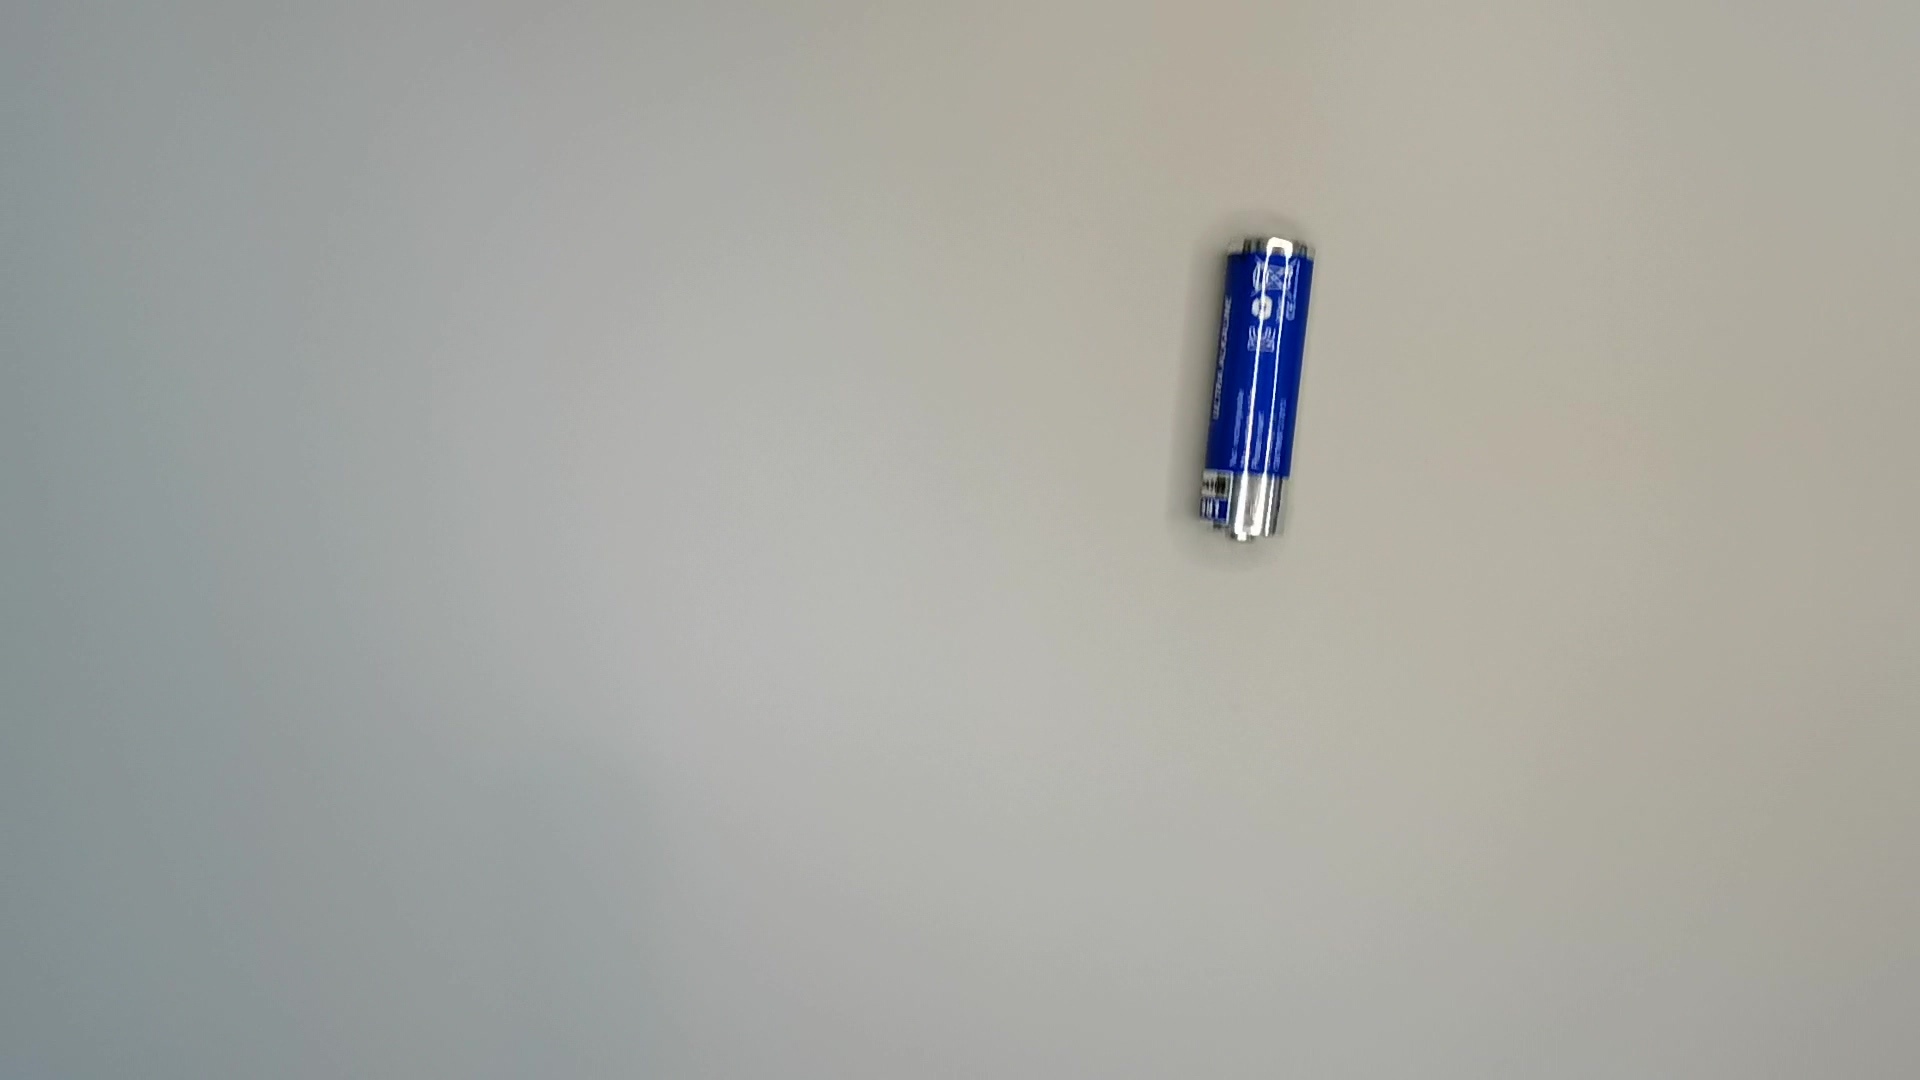battery: (1182, 233, 1323, 549)
